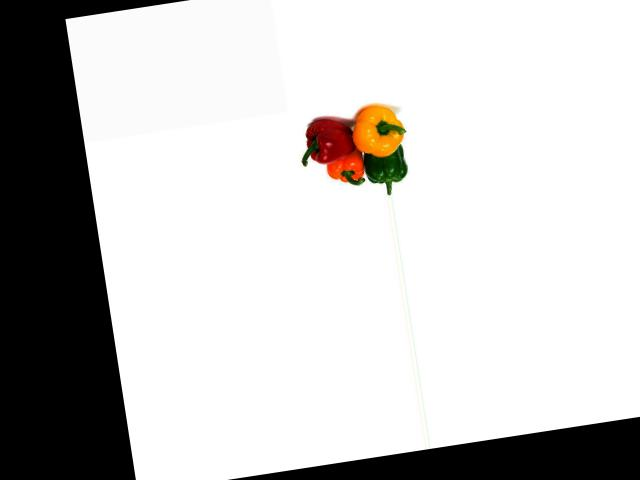bell_pepper: (346, 98, 412, 161)
